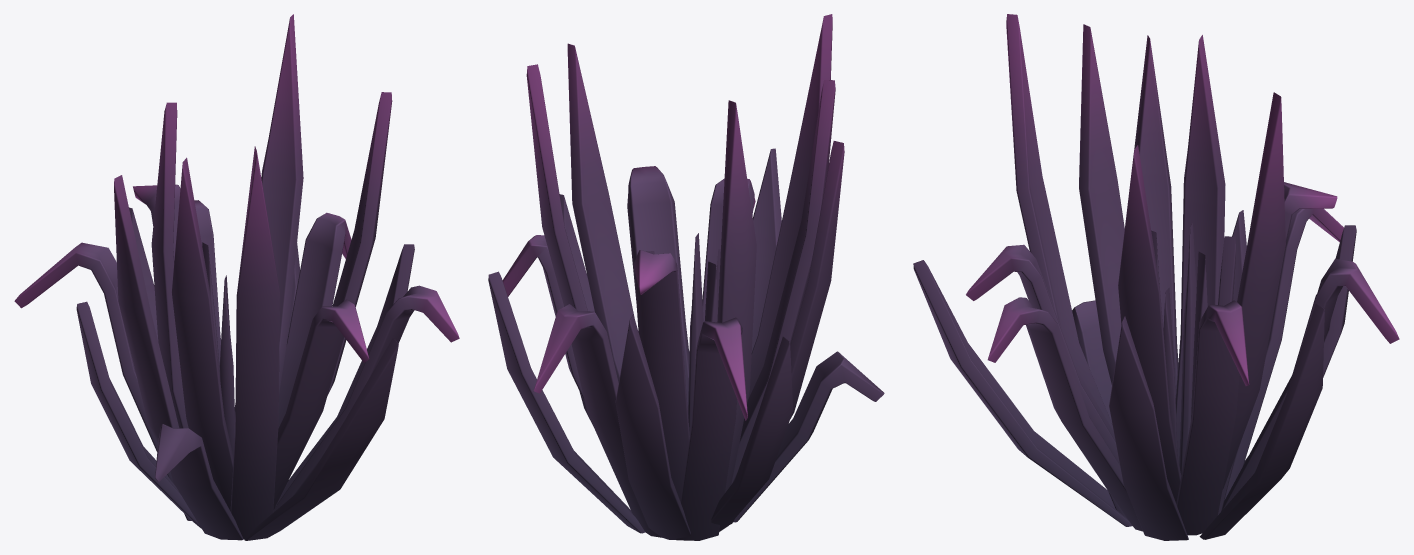
File: Plants_040.fbx
3 renders of one model, left to right at view 1: azimuth 30°, elevation 25°; view 2: azimuth 150°, elevation 25°; view 3: azimuth 270°, elevation 25°, orthographic. The views are drawn at different scales.
Parts seen in each view (by area): view 1: Plants.040; view 2: Plants.040; view 3: Plants.040.
Part boxes in pixels (bbox=[...]): Plants.040: bbox=[14, 14, 459, 540]; Plants.040: bbox=[488, 14, 884, 540]; Plants.040: bbox=[913, 14, 1399, 540].
Size of the model in its own units: 530 by 765 by 708.
